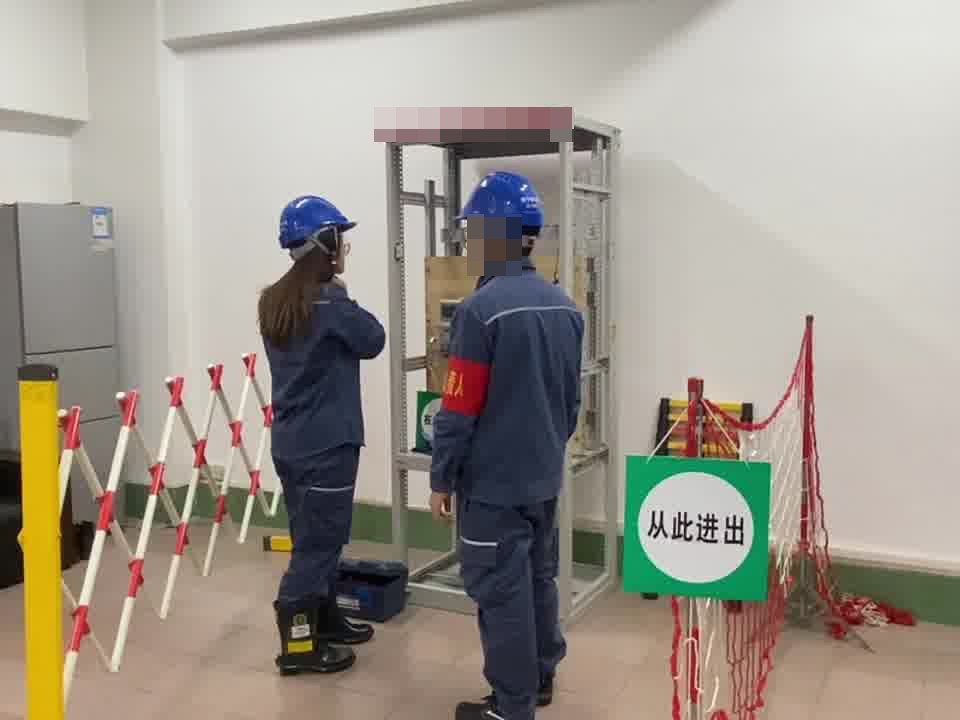badge: (440, 356, 493, 417)
downsuit: (453, 512, 567, 706), (269, 450, 363, 612)
hair: (257, 189, 359, 346)
halt: (455, 170, 548, 266)
hand: (422, 488, 454, 522)
inear: (465, 220, 500, 276)
intosign: (620, 449, 775, 604)
person: (424, 165, 590, 719), (251, 192, 388, 634)
shoe: (263, 598, 378, 674)
upsuit: (426, 264, 588, 504), (256, 274, 386, 432)
worksign: (414, 389, 447, 456)
